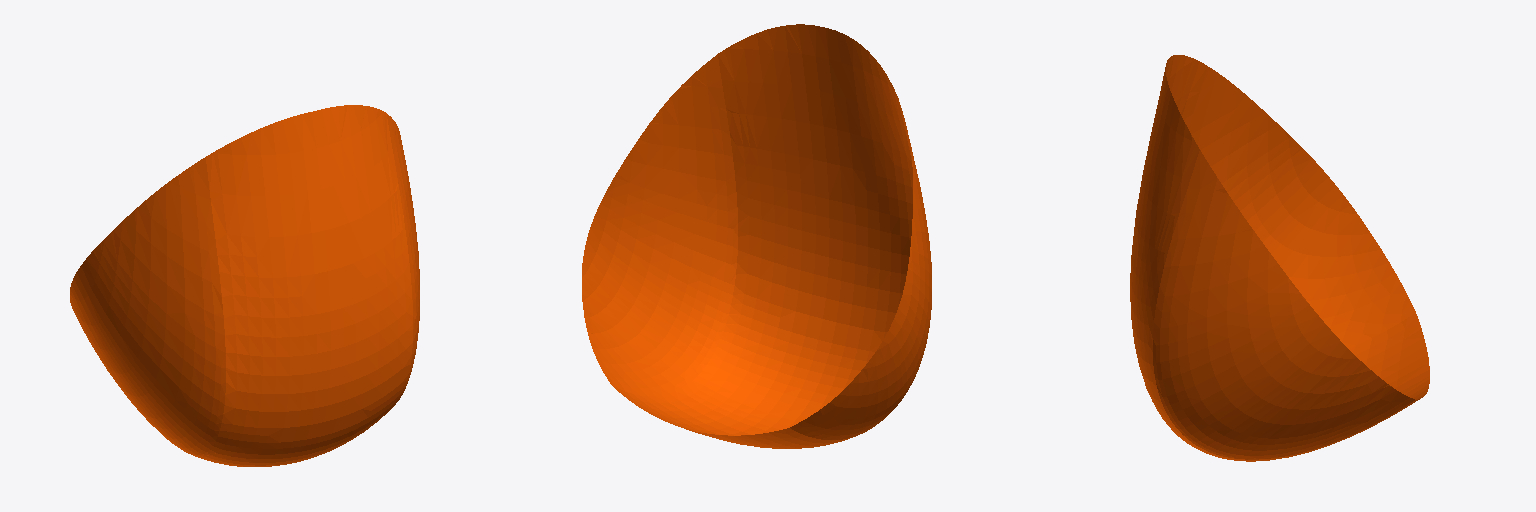
Rendered from link_6_orange.obj.
3 renders of one model, left to right at view 1: azimuth 30°, elevation 25°; view 2: azimuth 150°, elevation 25°; view 3: azimuth 270°, elevation 25°, orthographic.
Bounding box in the file's own units: 0.1322 × 0.1522 × 0.1108.